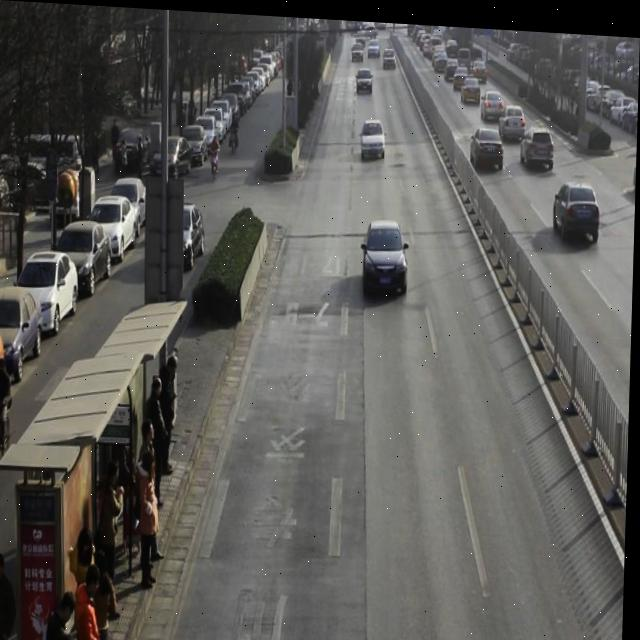car: (363, 211, 411, 295), (154, 195, 207, 268), (556, 173, 602, 235), (471, 120, 506, 167), (521, 116, 556, 163), (362, 112, 387, 157), (500, 97, 528, 135), (481, 83, 506, 118), (462, 64, 484, 99), (357, 61, 373, 92), (472, 49, 489, 75), (455, 57, 470, 83), (383, 41, 397, 66), (351, 36, 365, 59), (369, 32, 382, 56)
